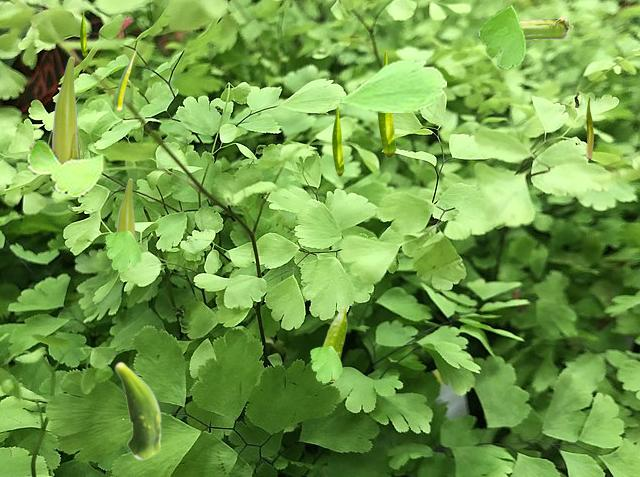okra: (114, 361, 161, 459), (47, 56, 82, 161), (478, 16, 572, 39), (377, 50, 395, 157), (322, 305, 346, 379), (116, 178, 138, 242), (115, 50, 135, 110), (332, 106, 343, 175), (586, 97, 592, 157), (80, 11, 86, 56)
